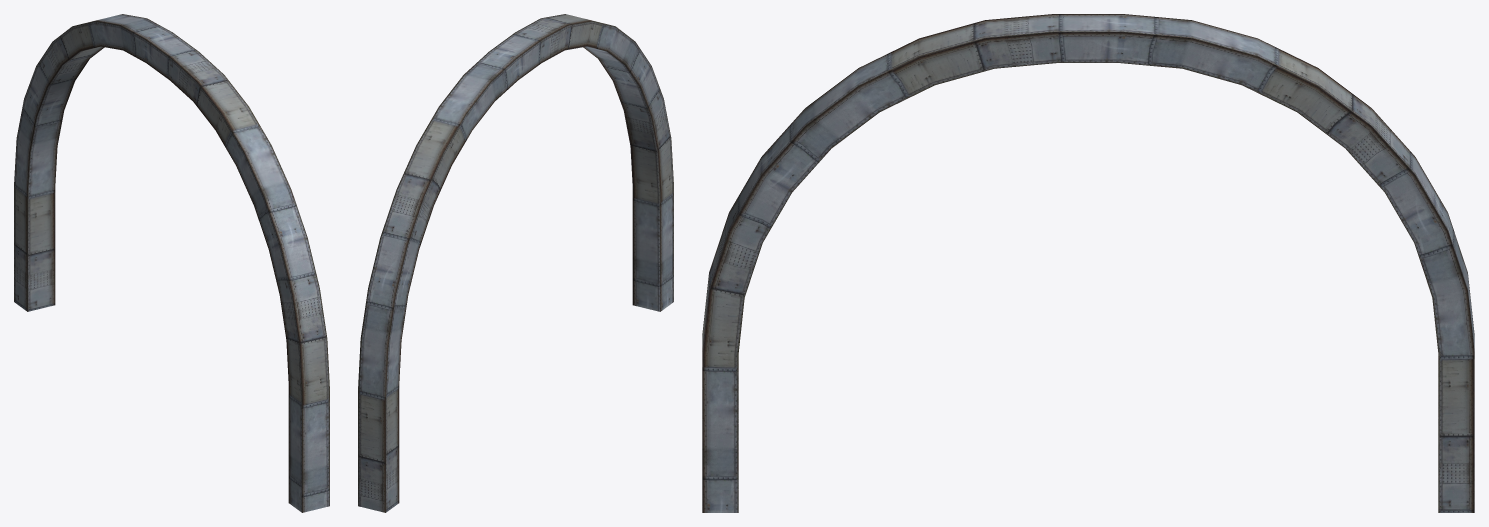
File: support1a.dae
3 renders of one model, left to right at view 1: azimuth 30°, elevation 25°; view 2: azimuth 150°, elevation 25°; view 3: azimuth 270°, elevation 25°, orthographic. The views are drawn at different scales.
Parts seen in each view (by area): view 1: Cube.013; view 2: Cube.013; view 3: Cube.013.
Part boxes in pixels (box(x1,y1,x2,y2)): Cube.013: box(14, 14, 329, 512); Cube.013: box(358, 14, 673, 512); Cube.013: box(702, 14, 1474, 512).
Bounding box in the file's own units: 0.7745 × 13.99 × 9.61.
Materials: 1 (1 with a texture image).
